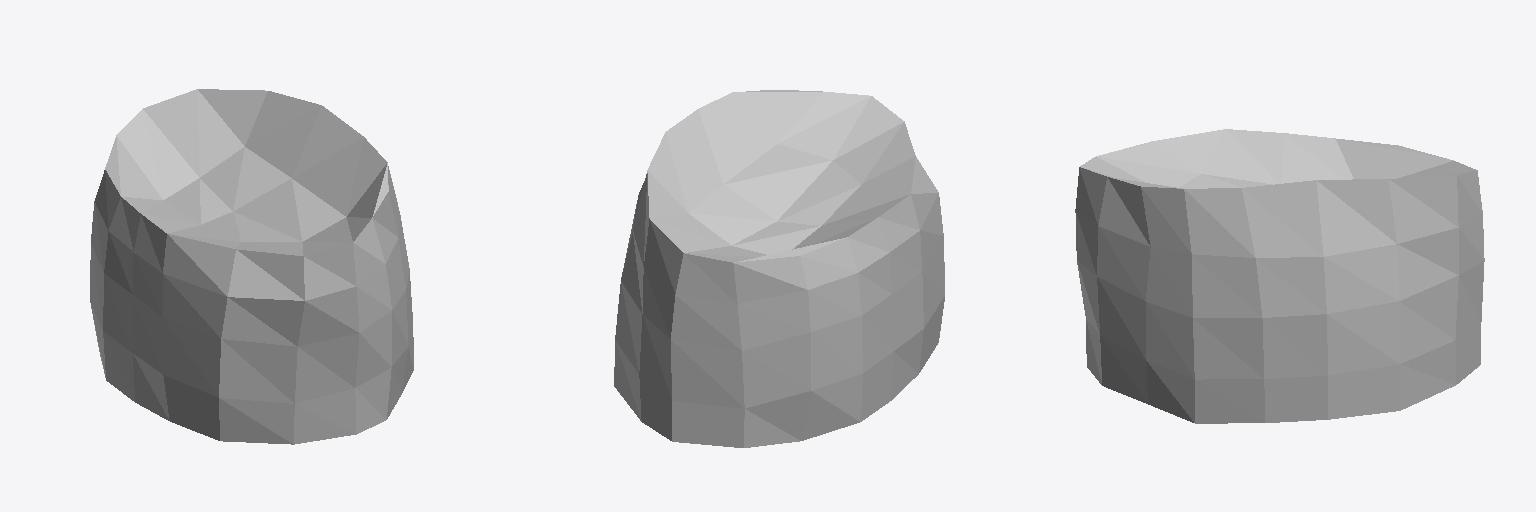
The model's file is dhaka topi.obj.
3 views of the same model, side by side, from view 1: azimuth 30°, elevation 25°; view 2: azimuth 150°, elevation 25°; view 3: azimuth 270°, elevation 25° (orthographic).
Parts seen in each view (by area): view 1: Cube_Cube.001; view 2: Cube_Cube.001; view 3: Cube_Cube.001.
Part boxes in pixels (left/top/right/bottom): Cube_Cube.001: left=90, top=89, right=413, bottom=444; Cube_Cube.001: left=614, top=90, right=944, bottom=447; Cube_Cube.001: left=1075, top=129, right=1484, bottom=423.
Bounding box in the file's own units: 1.9 × 1.71 × 2.71.